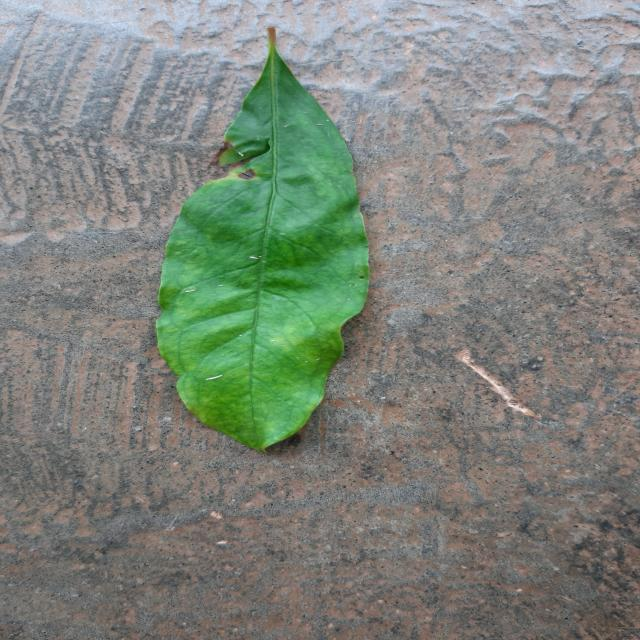pomgrana: (156, 28, 369, 451)
